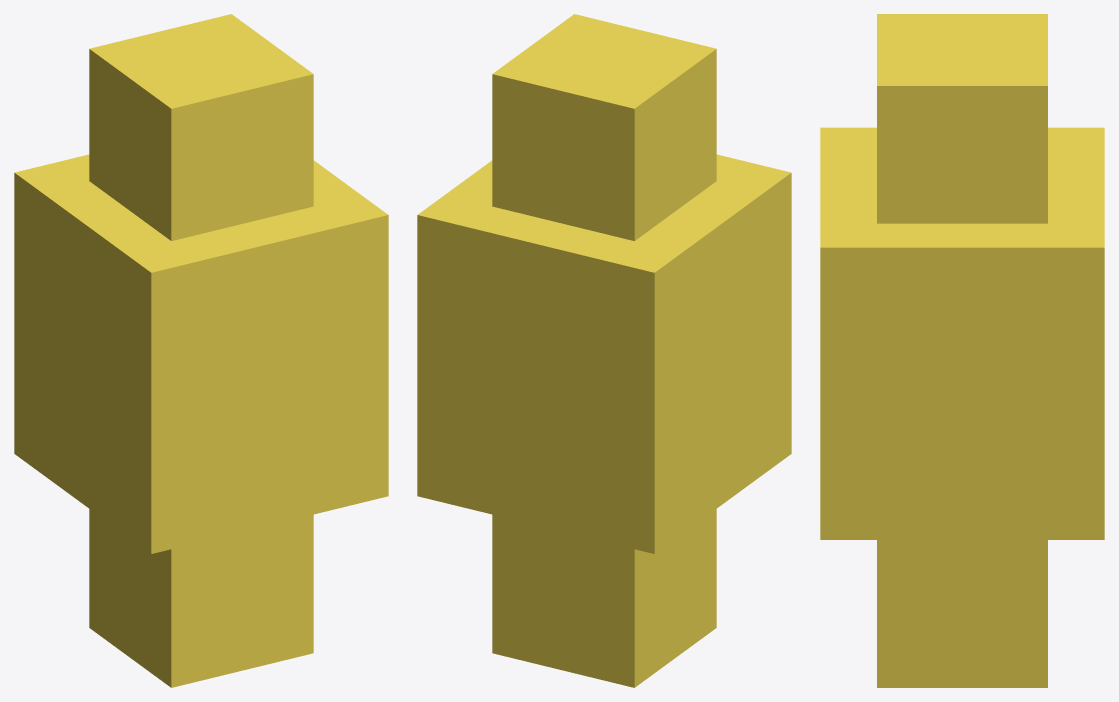
The model's file is shard.gltf.
3 renders of one model, left to right at view 1: azimuth 30°, elevation 25°; view 2: azimuth 150°, elevation 25°; view 3: azimuth 270°, elevation 25°, orthographic. The views are drawn at different scales.
Visible parts, largest first — view 1: shard; view 2: shard; view 3: shard.
Boxes of the visible parts, x1,y1,x2,y2 form: shard: [14, 14, 388, 687]; shard: [417, 14, 791, 687]; shard: [820, 14, 1104, 687].
Bounding box in the file's own units: 0.3 × 0.7 × 0.3.
